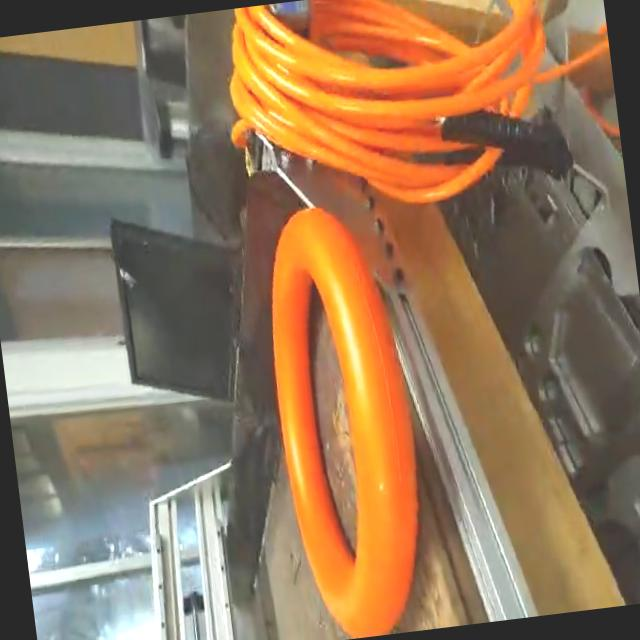note: (249, 192, 438, 640)
